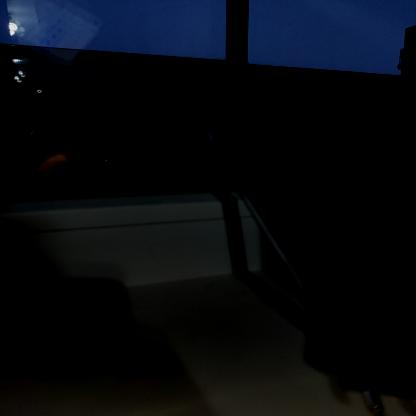Pen: (185, 113, 387, 378)
